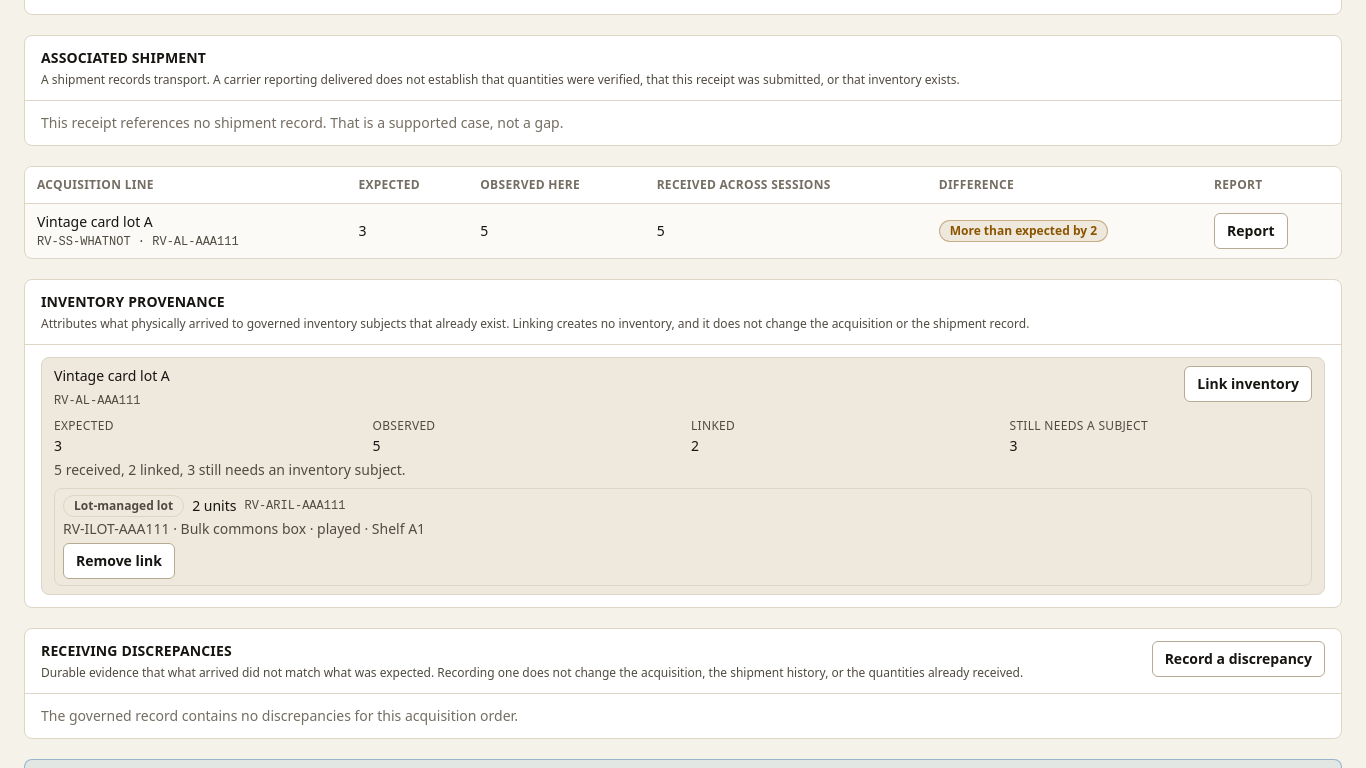
Test: linking to a governed inventory subject › shows the tracking mode as inventory truth, not an operator choice
This screenshot has width=1366, height=768.
(page scrolled)
Click the button "Link inventory" at (1248, 384), box [1184,366,1312,402]
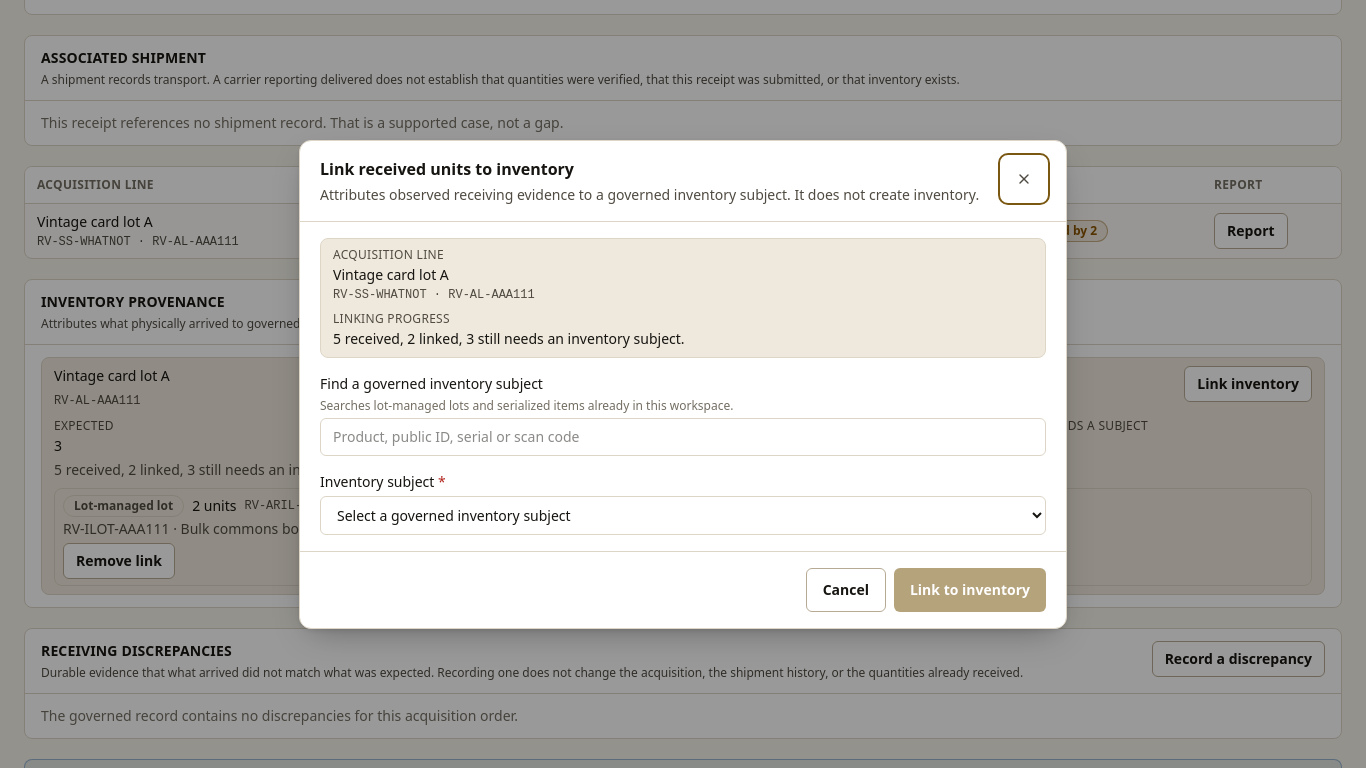
Select "Lot-managed — RV-ILOT-AAA111 · Bulk commons box · lot holds 12 · played · Shelf " in the dropdown labelled "Inventory subject *" at (683, 515), box [320,496,1046,534]
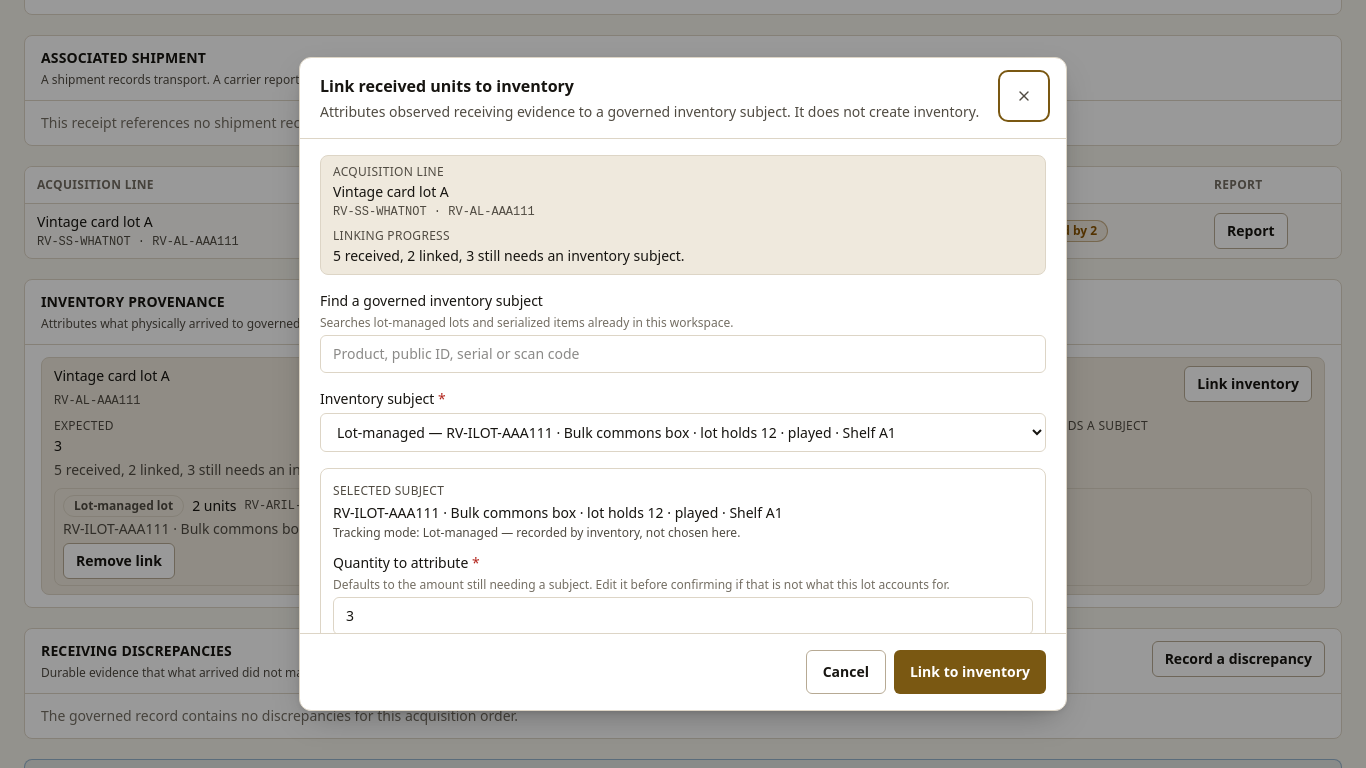
Expected: the text "recorded by inventory, not chosen here" is shown, [498,524,740,541]
